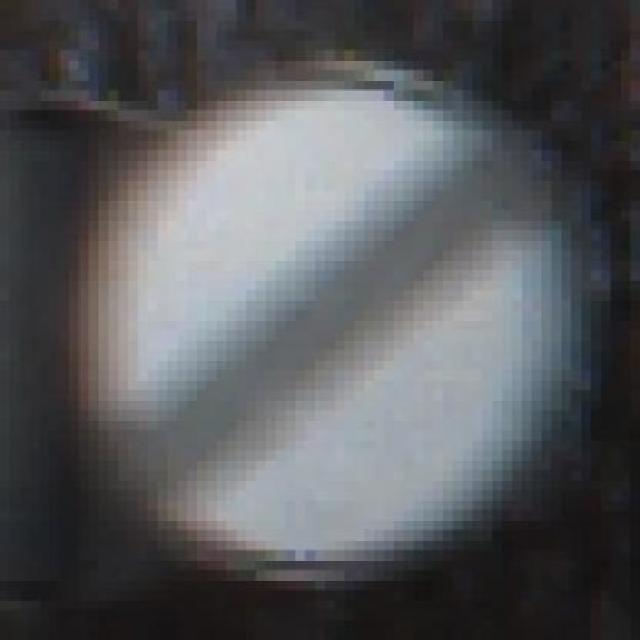End of all speed and passing limits: (66, 51, 588, 582)
